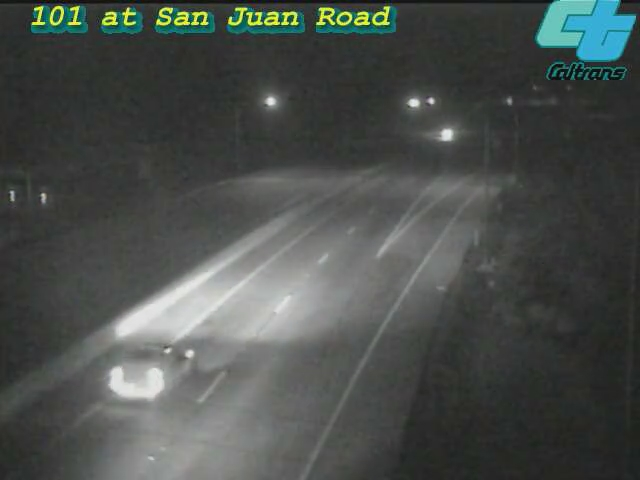vehicle: (90, 318, 200, 428), (424, 109, 474, 159)
